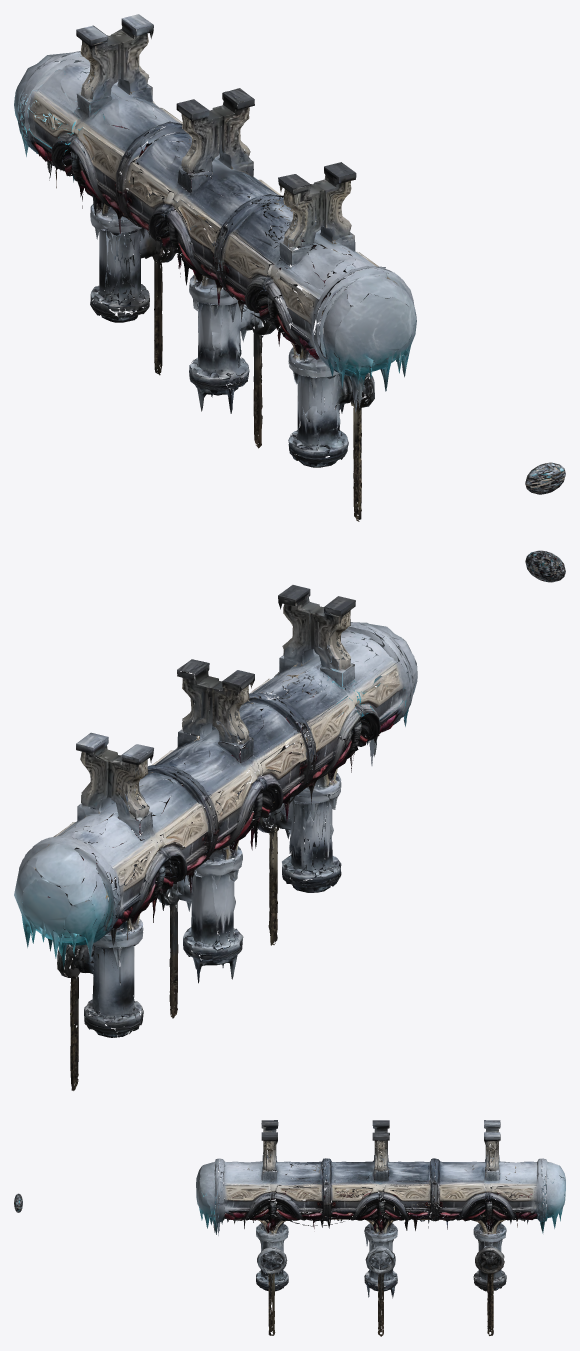
Rendered from hazard_source_cryogen_header.glb.
3 views of the same model, one above another, from view 1: azimuth 30°, elevation 25°; view 2: azimuth 150°, elevation 25°; view 3: azimuth 270°, elevation 25° (orthographic). The views are drawn at different scales.
Visible parts, largest first — view 1: node_0, HB_PULSE_00; view 2: node_0, HB_PULSE_00; view 3: node_0.
Boxes of the visible parts, <box> form: node_0: <box>14,14,416,521</box>; HB_PULSE_00: <box>525,462,565,494</box>; node_0: <box>14,585,417,1090</box>; HB_PULSE_00: <box>525,550,565,582</box>; node_0: <box>196,1120,565,1336</box>.
Size of the model in its own units: 0.2051 by 0.6799 by 1.73.
1 material, 1 textured.
